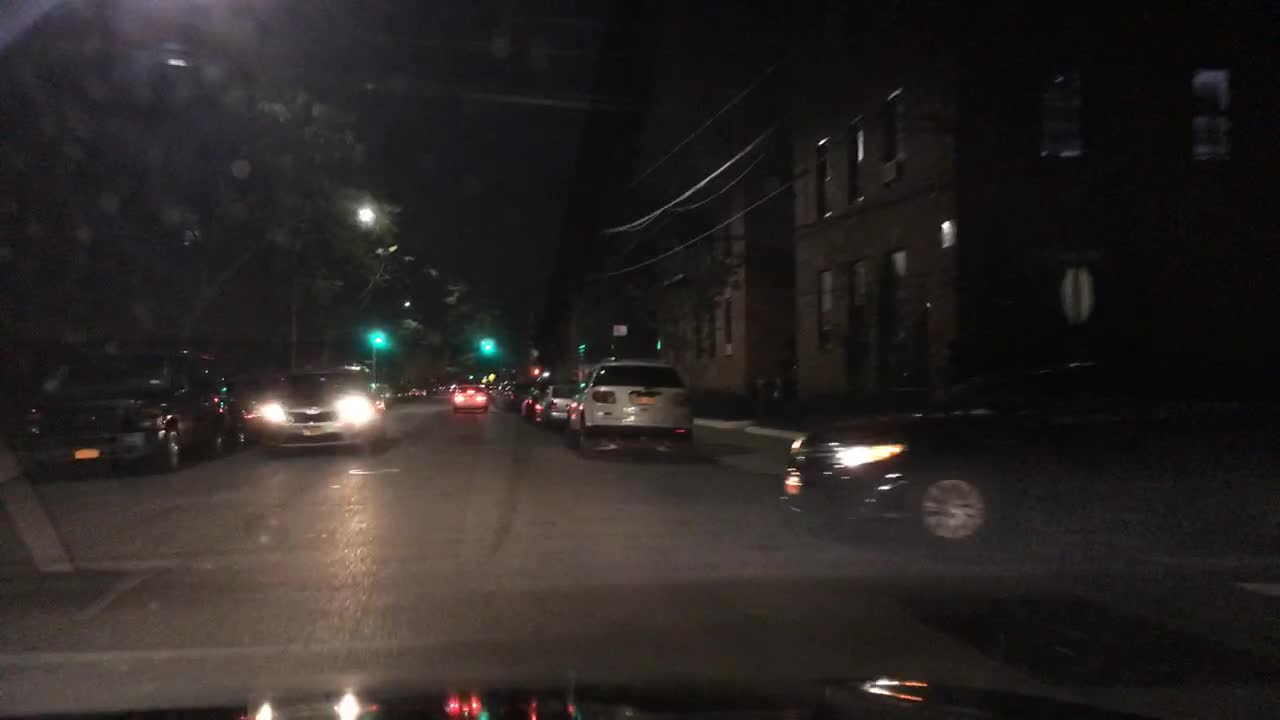car: (779, 355, 1280, 557), (16, 349, 248, 481), (573, 359, 695, 458), (254, 365, 389, 453), (217, 369, 275, 445), (536, 379, 581, 425), (449, 379, 487, 415), (520, 384, 549, 415), (506, 379, 533, 412), (371, 381, 395, 401), (497, 382, 512, 399), (401, 387, 420, 399), (414, 382, 429, 396), (429, 381, 441, 393)
traffic light: (374, 329, 383, 347), (481, 338, 490, 356)
traffic sign: (1057, 267, 1095, 322), (613, 322, 627, 338)
